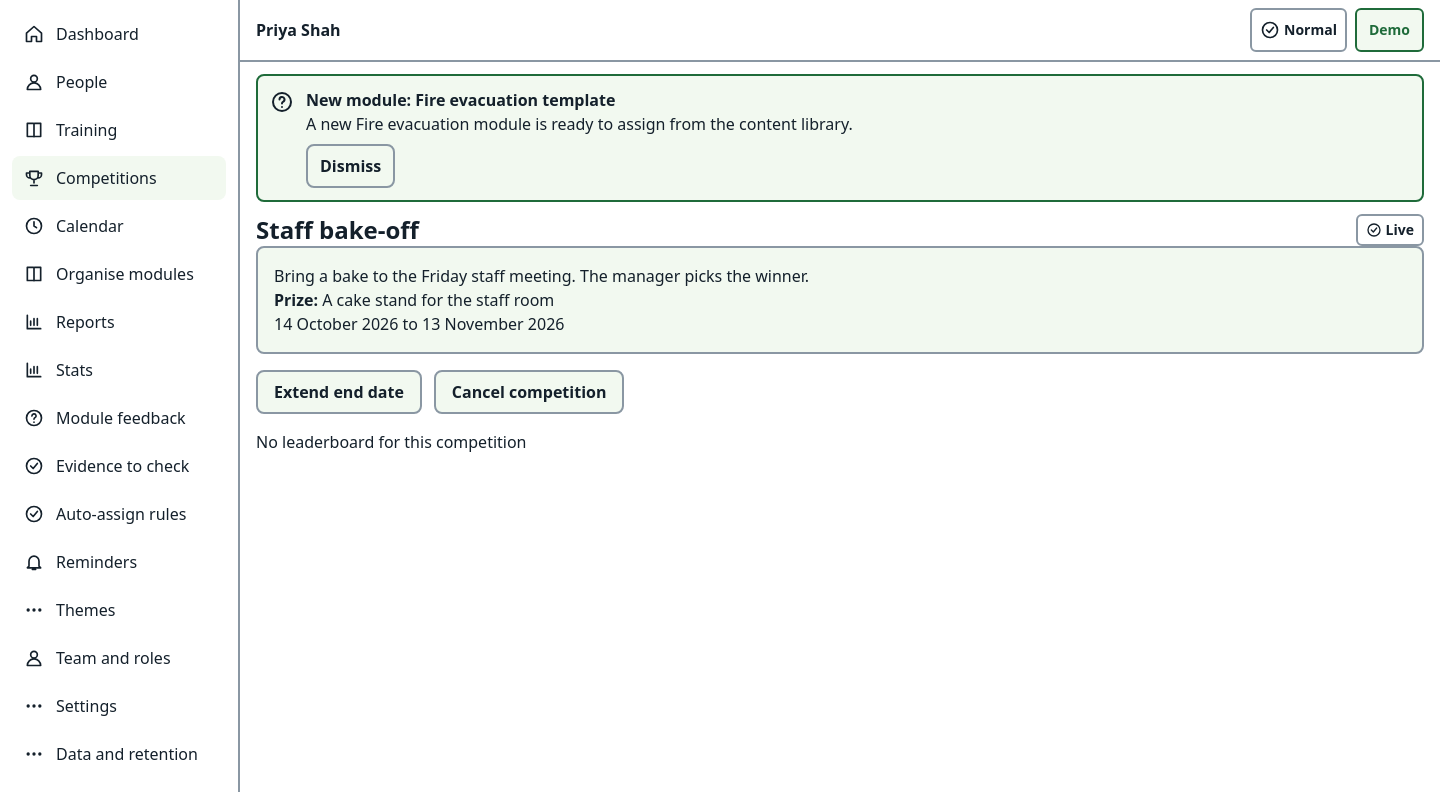
Test: C13 Competition detail › cancels only after a confirmation
Click the button "Cancel competition": (529, 392) [434, 370, 624, 414]
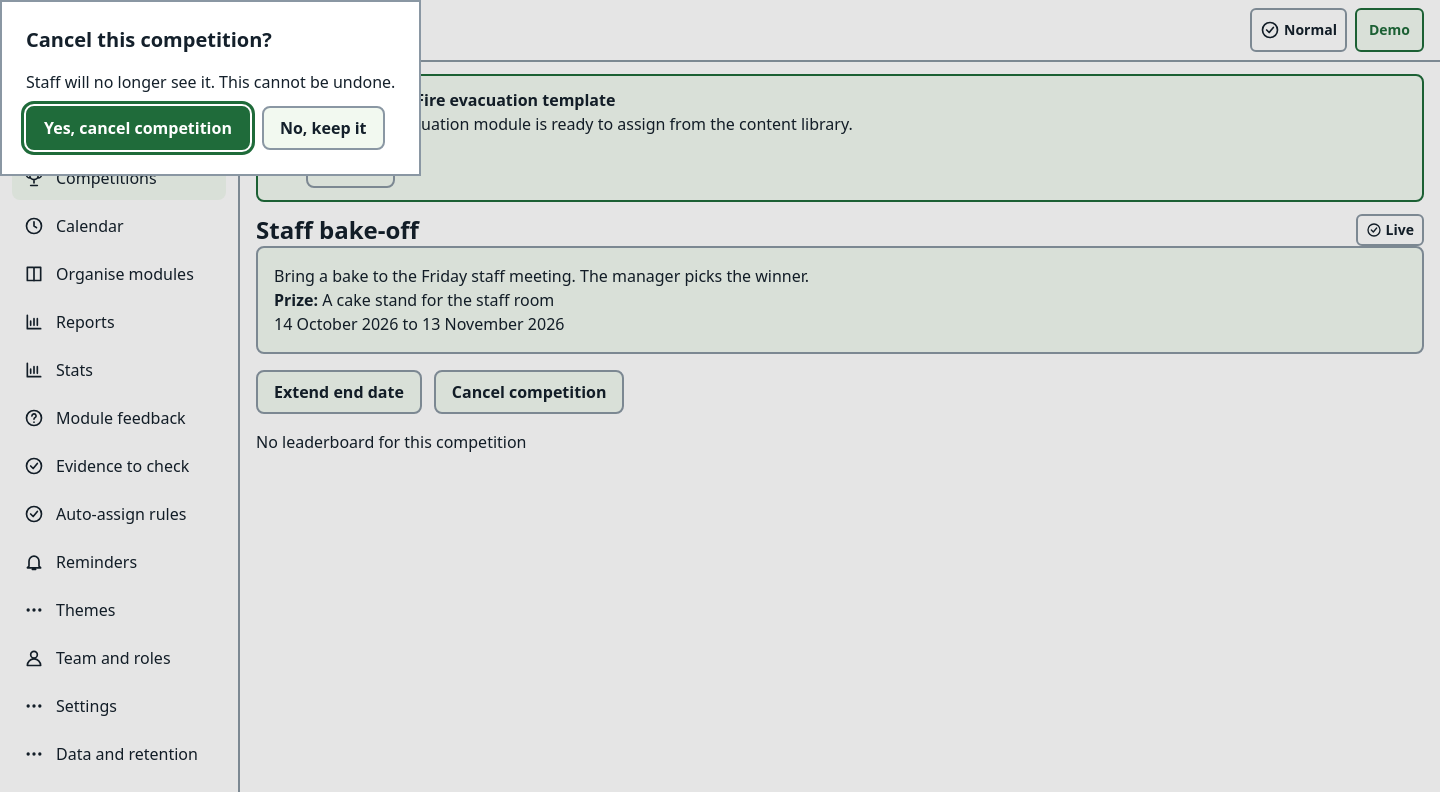
Click the button "Yes, cancel competition": (138, 128) [26, 106, 250, 150]
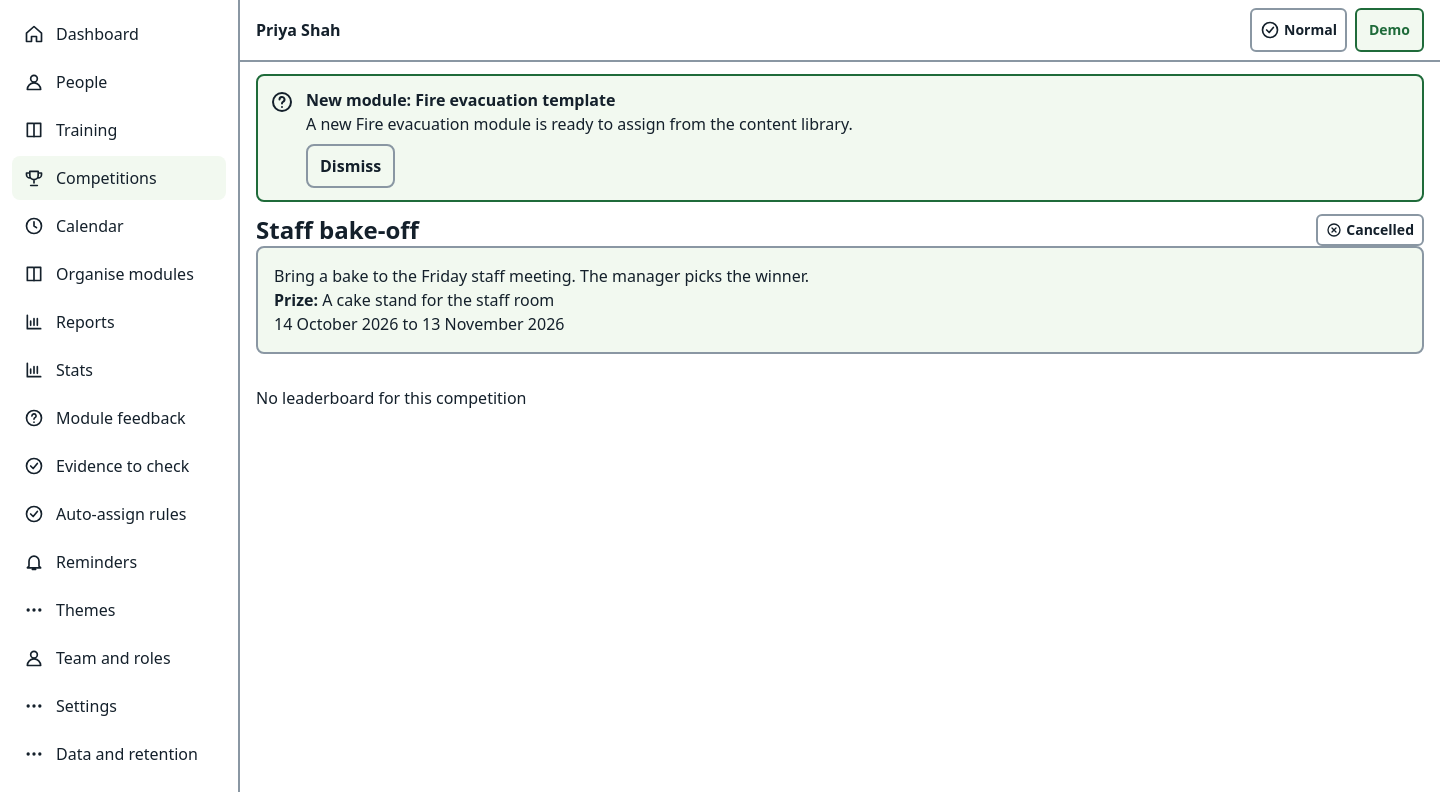
Expected: the text "Cancelled" is shown, [1346, 220, 1414, 240]
